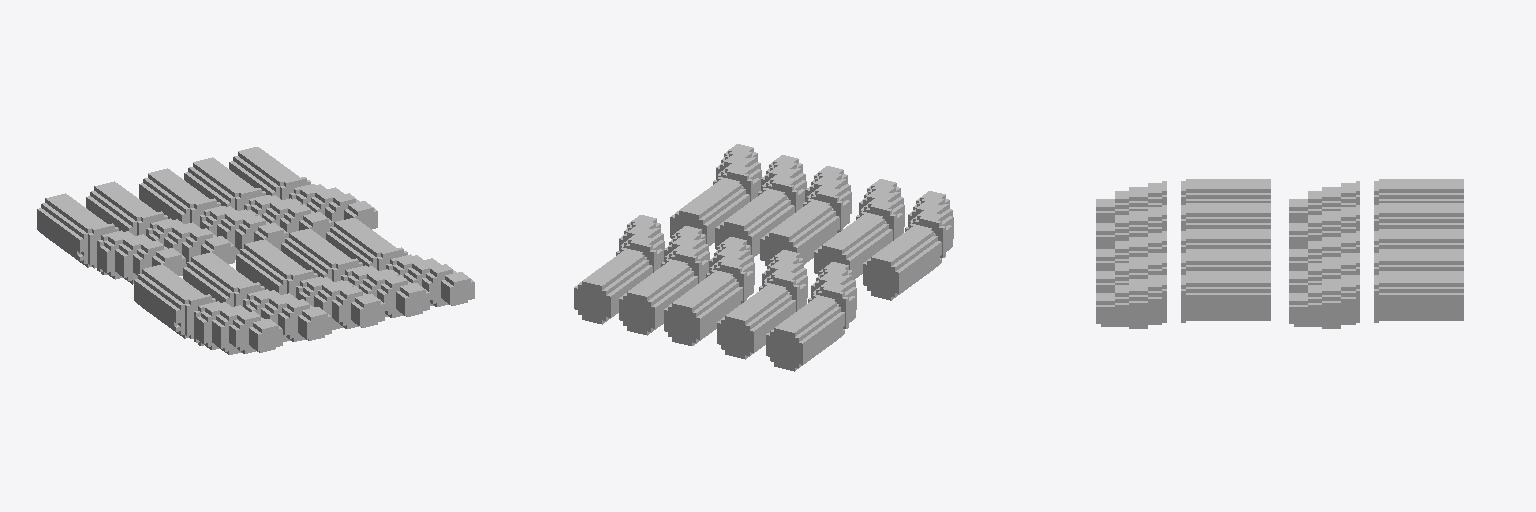
Rendered from GambasCortadas.obj.
3 renders of one model, left to right at view 1: azimuth 30°, elevation 25°; view 2: azimuth 150°, elevation 25°; view 3: azimuth 270°, elevation 25°, orthographic.
Visible parts, largest first — view 1: object 1; view 2: object 1; view 3: object 1.
Part boxes in pixels (bbox=[...]): object 1: bbox=[37, 147, 474, 354]; object 1: bbox=[574, 144, 953, 371]; object 1: bbox=[1096, 179, 1463, 328].
Size of the model in its own units: 6.2 by 0.9 by 7.8.